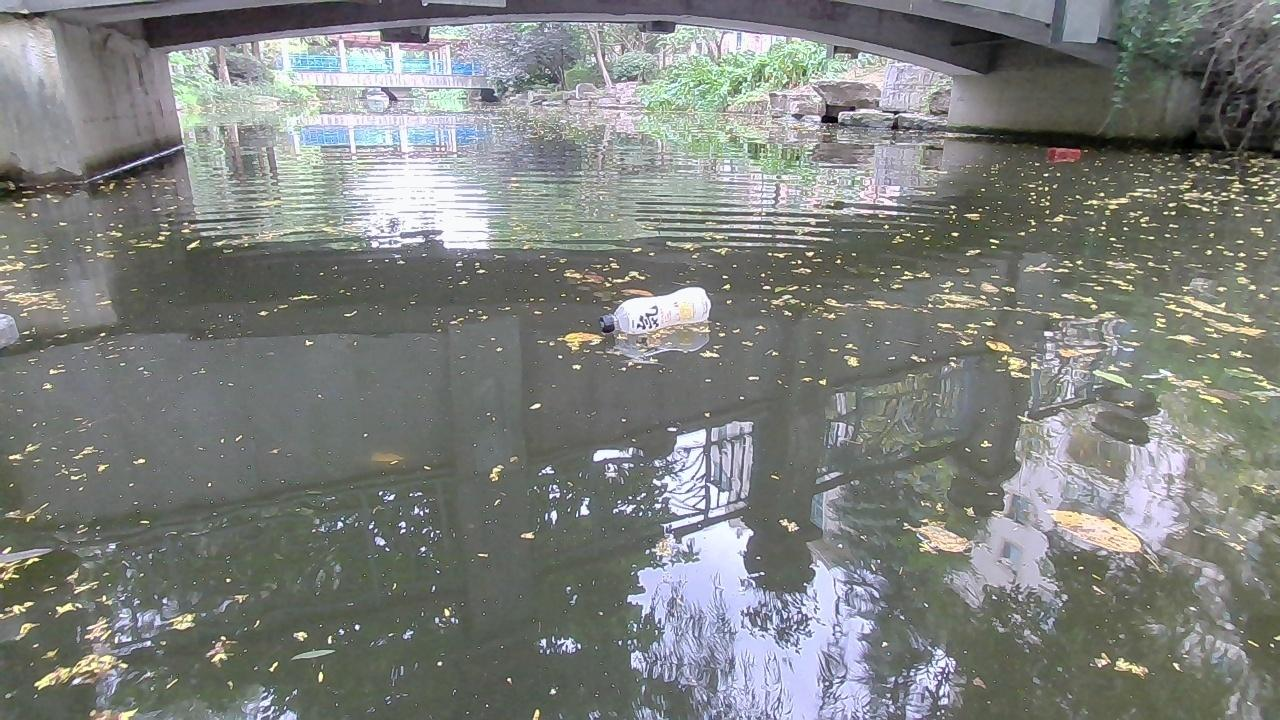bottle: (596, 283, 709, 334), (1046, 143, 1084, 162)
